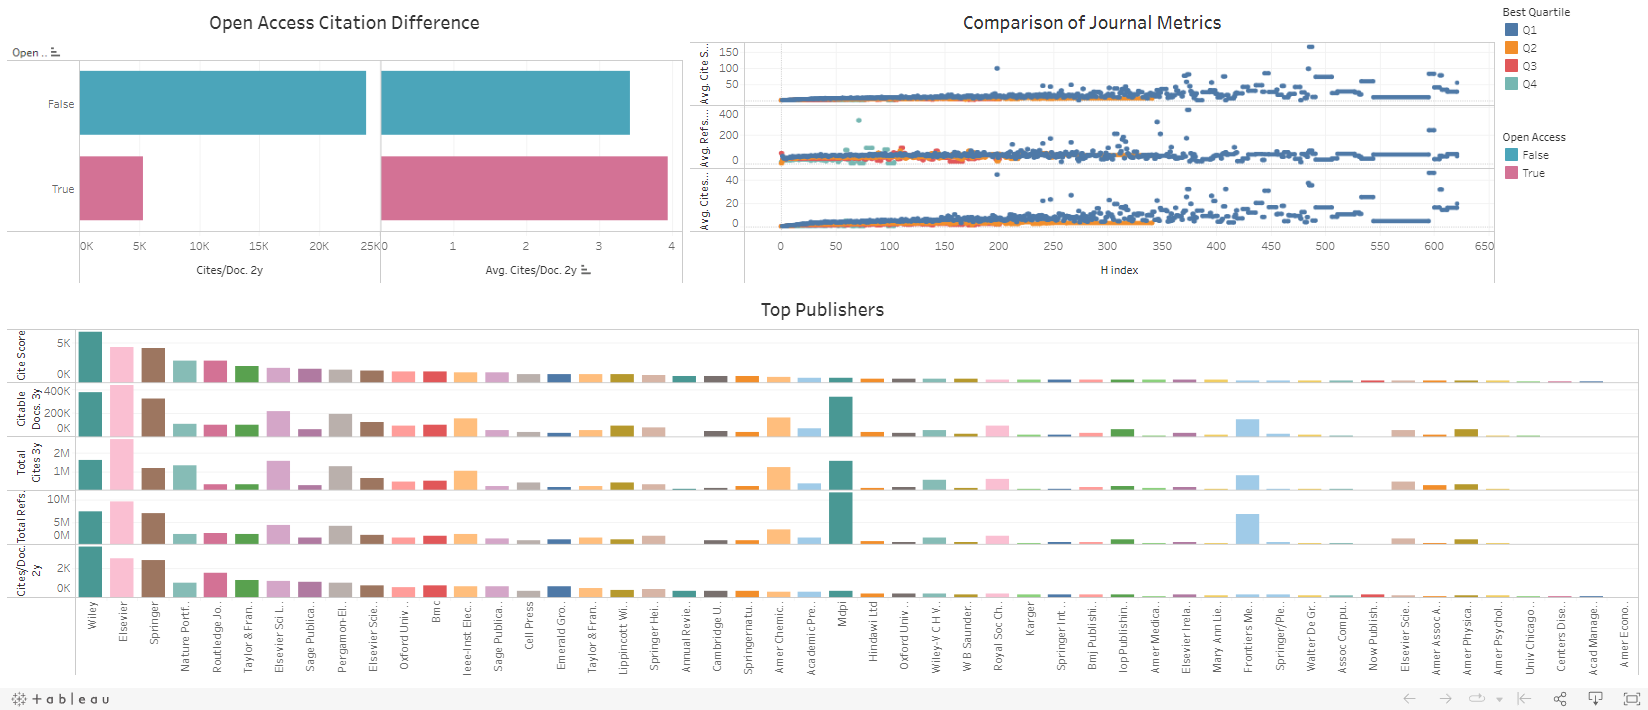

Layout of this report page (visuals, bound fields, positions):
{"tool":"tableau","page":{"name":"Dashboard 2","canvas":[1000,1000],"units":"permille","ordinal":1},"visuals":[{"type":"worksheet","title":"OA","mark":"Automatic","rows":["Open Access"],"cols":["Cites/Doc. 2y","Cites/Doc. 2y"],"box":[4.8,10.3,408,414]},{"type":"worksheet","title":"Metrics","mark":"Automatic","rows":["CiteScore","Refs./Doc.","Cites/Doc. 2y"],"cols":["H index"],"box":[412.9,10.3,485.6,414]},{"type":"legend","title":"Metrics","param":"[federated.0otpkk91r1r2ki117xu301yf1k40].[none:Best Quartile:nk]","box":[898.4,10.3,96.7,178.9]},{"type":"legend","title":"OA","param":"[federated.0otpkk91r1r2ki117xu301yf1k40].[none:Open Access:nk]","box":[898.4,189.2,96.7,157]},{"type":"worksheet","title":"Top Publishers","mark":"Automatic","rows":["CiteScore","Citable Docs. 3y","Total Cites 3y","Total Refs.","Cites/Doc. 2y"],"box":[4.8,424.3,990.3,565.4]}]}

Visuals, with their boxes on the dashboard's canvas, which has no fixed pixel size, in thousandths of its width and height (x1, y1, x2, y2). These are canvas units, not pixel positions in the 1648x710 screenshot, which may show the page scaled, cropped or inside an application window:
"OA" worksheet: bbox(5, 10, 413, 424)
"Metrics" worksheet: bbox(413, 10, 898, 424)
"Metrics" legend: bbox(898, 10, 995, 189)
"OA" legend: bbox(898, 189, 995, 346)
"Top Publishers" worksheet: bbox(5, 424, 995, 990)
